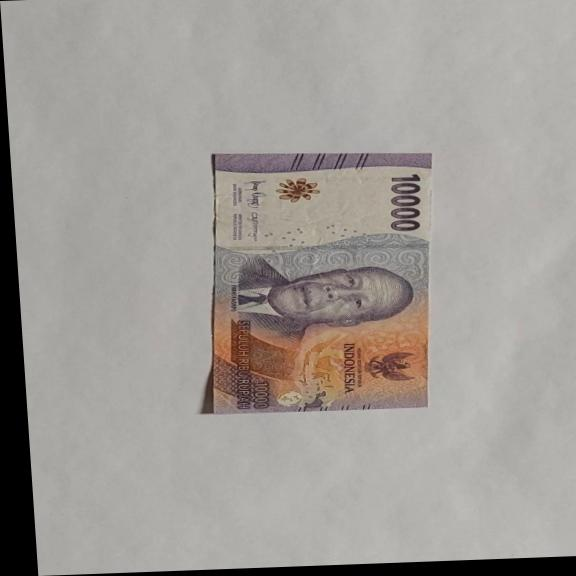Kertas: (189, 145, 448, 416)
